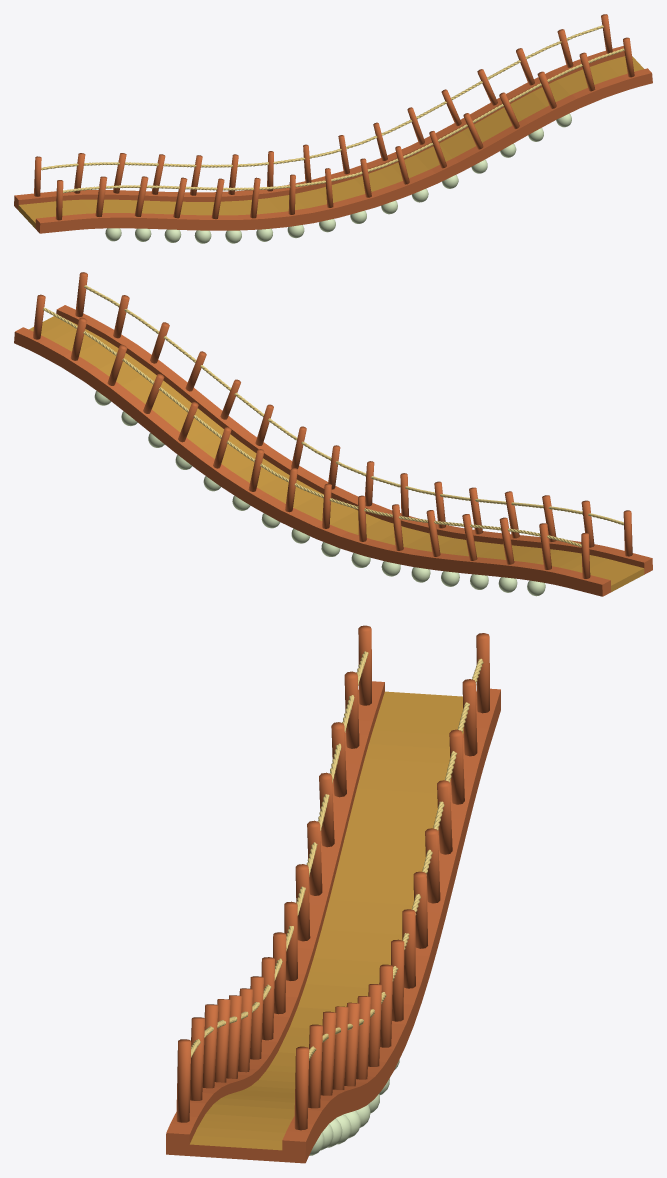
Rendered from brigesRope_Twist_007.fbx.
3 renders of one model, top to bottom at view 1: azimuth 30°, elevation 25°; view 2: azimuth 150°, elevation 25°; view 3: azimuth 270°, elevation 25°, orthographic. The views are drawn at different scales.
Parts seen in each view (by area): view 1: Rope.Twist.007; view 2: Rope.Twist.007; view 3: Rope.Twist.007.
Boxes of the visible parts, bbox=[...] form: Rope.Twist.007: bbox=[14, 14, 652, 243]; Rope.Twist.007: bbox=[14, 272, 652, 596]; Rope.Twist.007: bbox=[166, 625, 500, 1163].
Bounding box in the file's own units: 1893 × 463 × 479.
